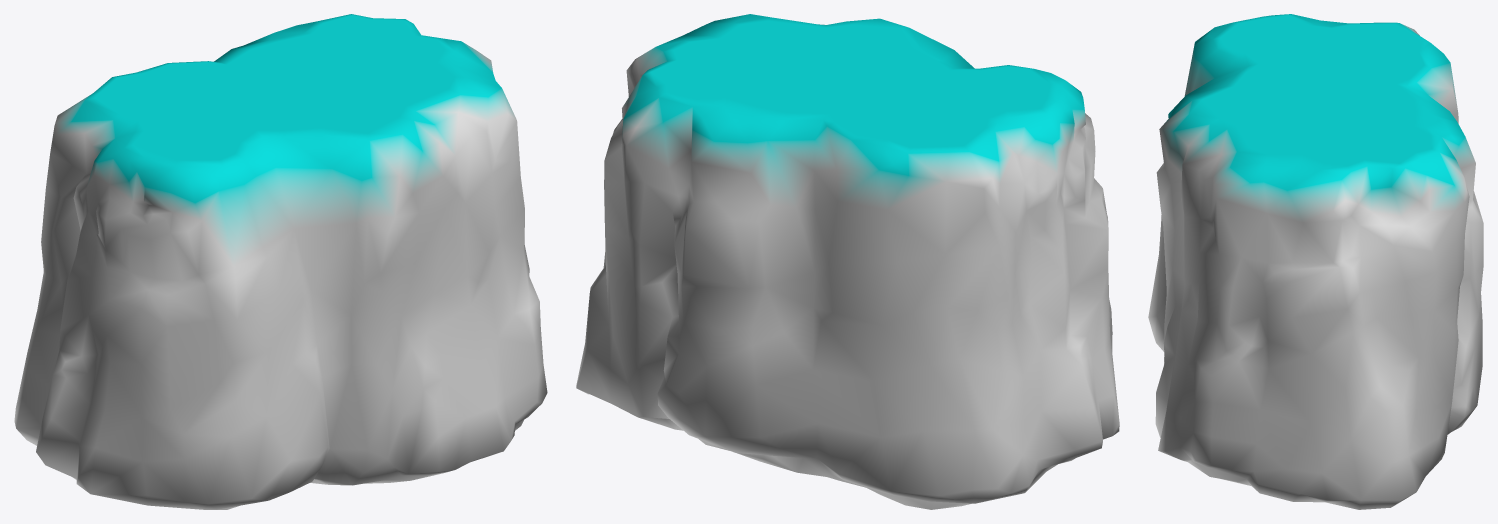
The model's file is Homeworld_Exterior_Common_Rockery_02_Lod0.fbx.
3 views of the same model, side by side, from view 1: azimuth 30°, elevation 25°; view 2: azimuth 150°, elevation 25°; view 3: azimuth 270°, elevation 25° (orthographic). The views are drawn at different scales.
Parts seen in each view (by area): view 1: Homeworld_Exterior_Common_Rockery_02_Lod0; view 2: Homeworld_Exterior_Common_Rockery_02_Lod0; view 3: Homeworld_Exterior_Common_Rockery_02_Lod0.
Boxes of the visible parts, box(x1,y1,x2,y2) form: Homeworld_Exterior_Common_Rockery_02_Lod0: box(14, 14, 547, 509); Homeworld_Exterior_Common_Rockery_02_Lod0: box(576, 14, 1119, 509); Homeworld_Exterior_Common_Rockery_02_Lod0: box(1148, 14, 1483, 509).
Size of what is drawn, in the model's own units: 16.27 by 11.19 by 10.43.
